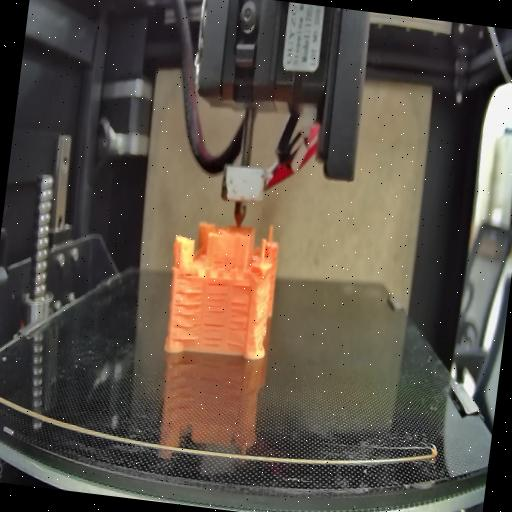cracks: (170, 286, 206, 343), (226, 300, 252, 345), (203, 280, 230, 316), (200, 321, 226, 349), (230, 281, 252, 292)
